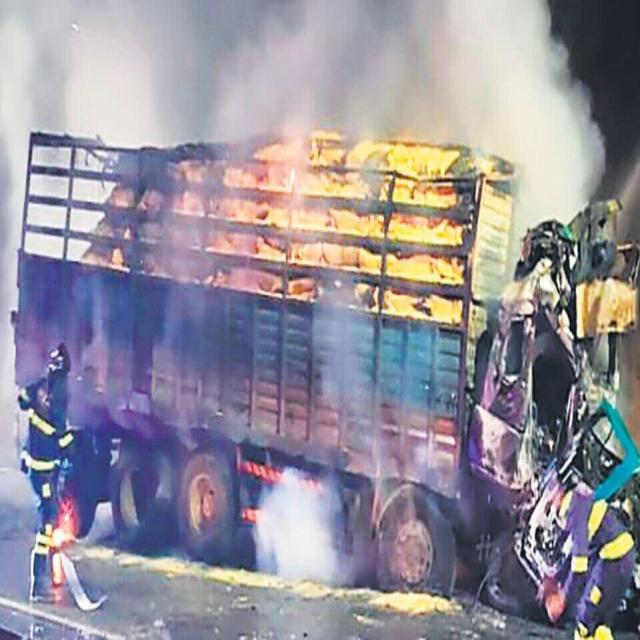accident: (12, 129, 640, 611)
